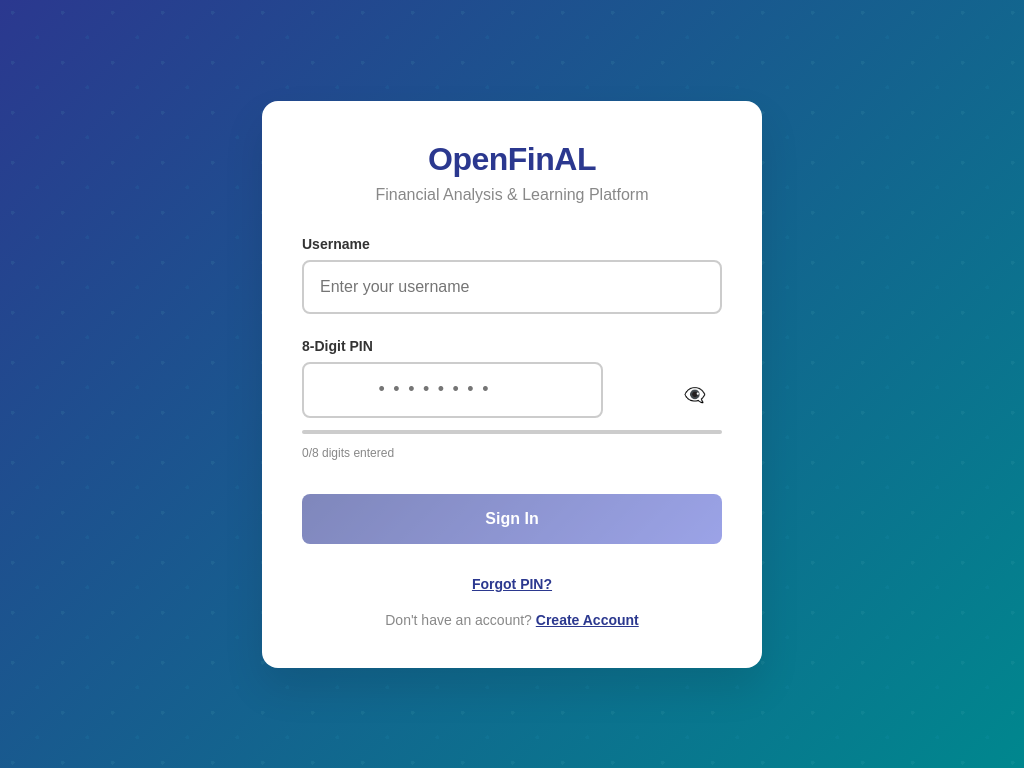
Test case: PinLogin › should handle login failure
The image size is (1024, 768).
Type "testuser" into the field labelled "Username" at (512, 286), box [302,260,722,314]
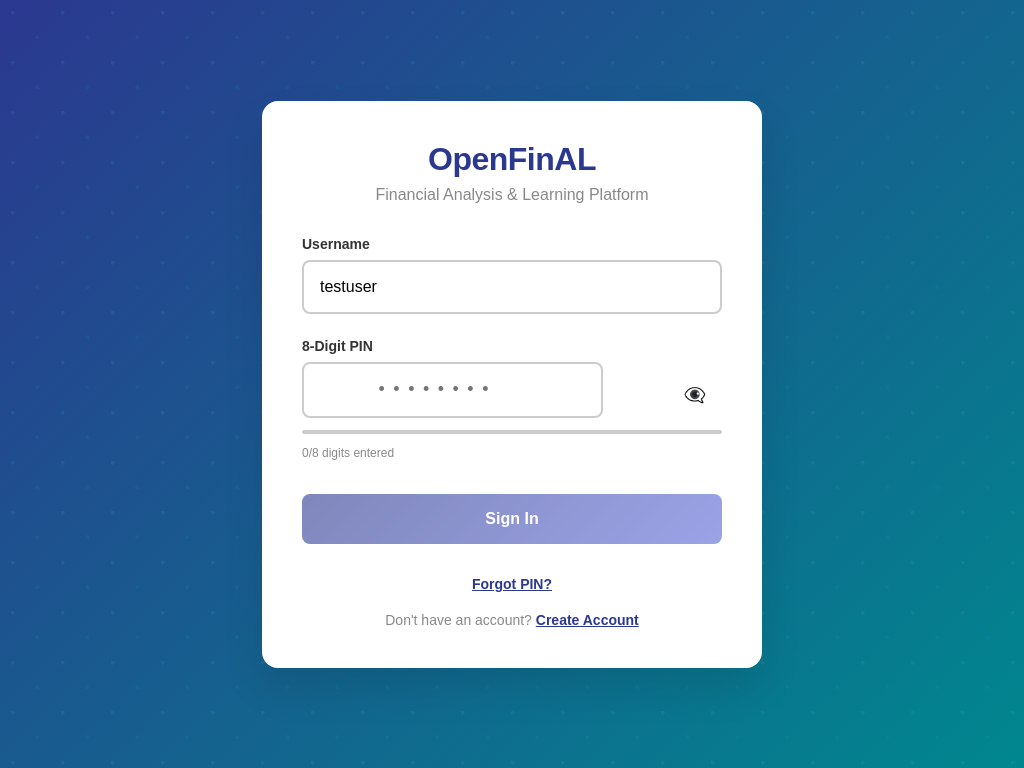
Type "12345678" into the password field labelled "8-Digit PIN" at (452, 390), box [302,362,603,418]
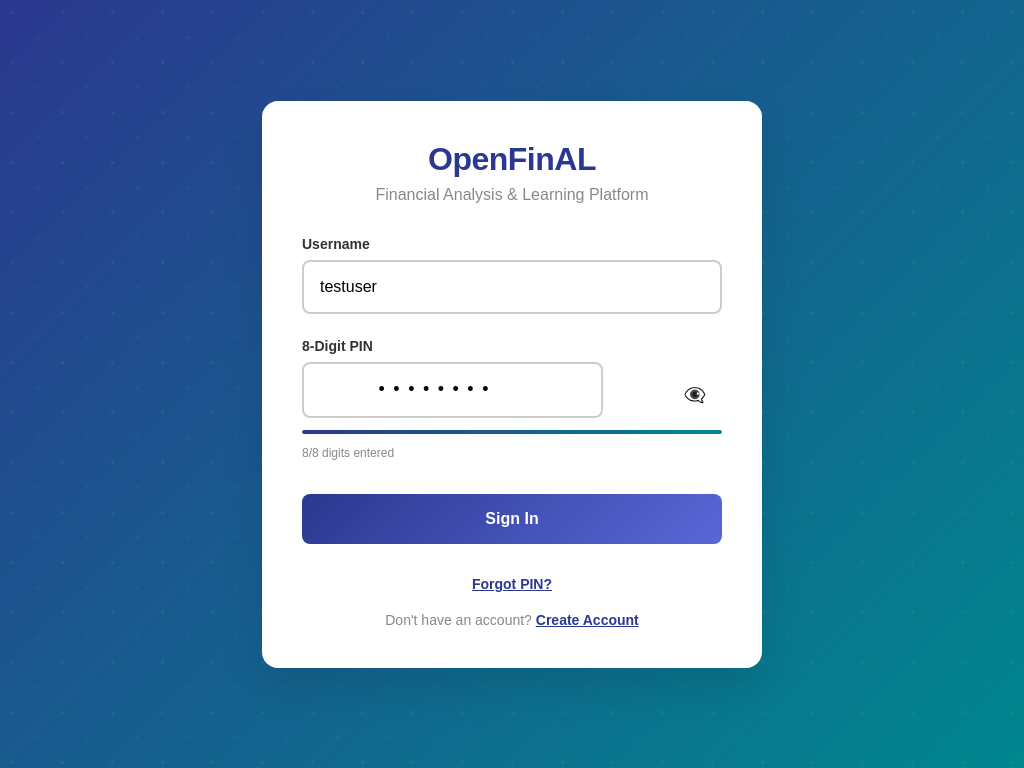
Click the button "Sign In" at (512, 518), box [302,494,722,544]
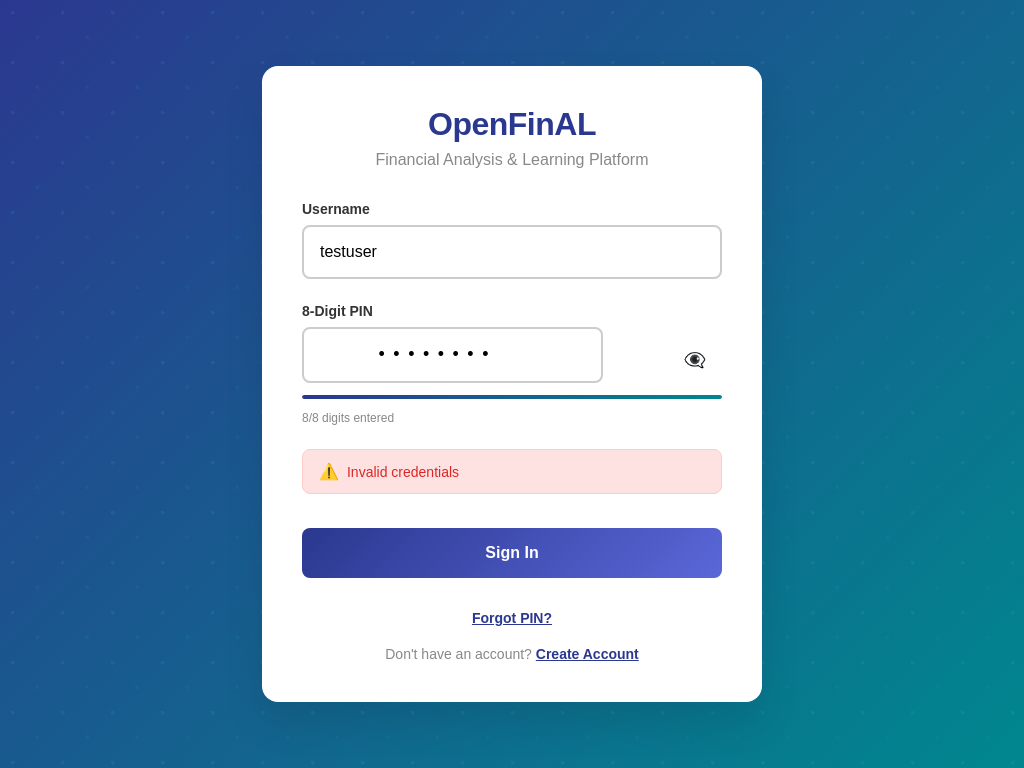
Expected: the text "Invalid credentials" is shown, [347,464,459,480]
